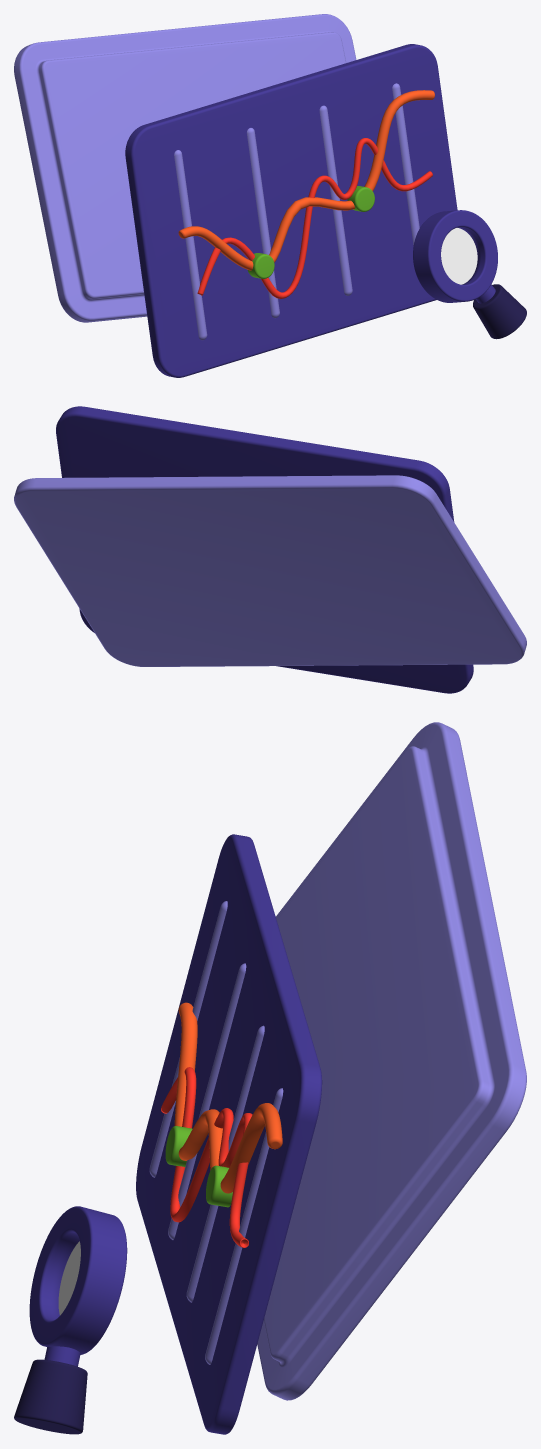
Rendered from Market Chart.glb.
The picture shows the model from 3 angles, top to bottom: view 1: azimuth 30°, elevation 25°; view 2: azimuth 150°, elevation 25°; view 3: azimuth 270°, elevation 25°; orthographic projection. The views are drawn at different scales.
Visible parts, largest first — view 1: Plane.018, Plane.019, Cylinder.063, Cylinder.060, Vert.001, Vert.010, Cylinder.064, Cylinder.061, Cylinder.062; view 2: Plane.019, Plane.018; view 3: Plane.019, Plane.018, Cylinder.063, Cylinder.060, Vert.001, Cylinder.064, Vert.010.
Part boxes in pixels (bbox=[...]): Plane.018: bbox=[125, 44, 457, 377]; Plane.019: bbox=[14, 14, 356, 322]; Cylinder.063: bbox=[413, 210, 497, 302]; Cylinder.060: bbox=[174, 83, 419, 340]; Vert.001: bbox=[178, 90, 434, 270]; Vert.010: bbox=[197, 138, 432, 298]; Cylinder.064: bbox=[473, 284, 526, 339]; Cylinder.061: bbox=[247, 253, 274, 278]; Cylinder.062: bbox=[347, 186, 374, 211]; Plane.019: bbox=[14, 475, 526, 666]; Plane.018: bbox=[56, 406, 473, 693]; Plane.019: bbox=[257, 722, 526, 1400]; Plane.018: bbox=[136, 834, 322, 1434]; Cylinder.063: bbox=[29, 1206, 127, 1354]; Cylinder.060: bbox=[149, 901, 283, 1364]; Vert.001: bbox=[174, 1002, 282, 1193]; Cylinder.064: bbox=[14, 1359, 87, 1434]; Vert.010: bbox=[161, 1067, 252, 1247].
Bounding box in the file's own units: 4.04 × 2.69 × 2.79.
